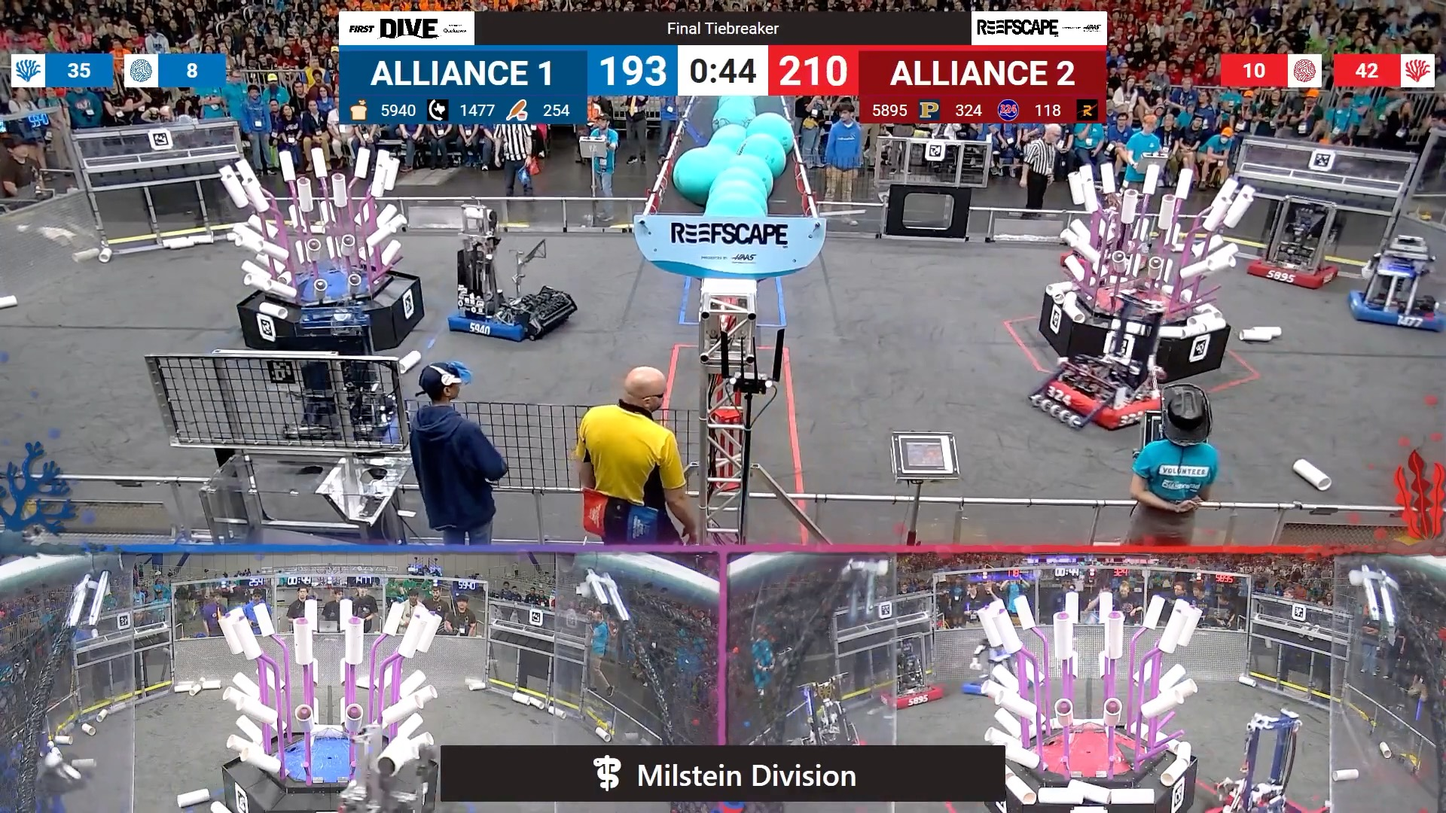bumpers: (1034, 368, 1174, 433), (438, 289, 569, 349), (1344, 287, 1446, 338), (1235, 254, 1344, 294), (1200, 791, 1313, 813), (875, 683, 950, 711), (955, 678, 999, 697)
